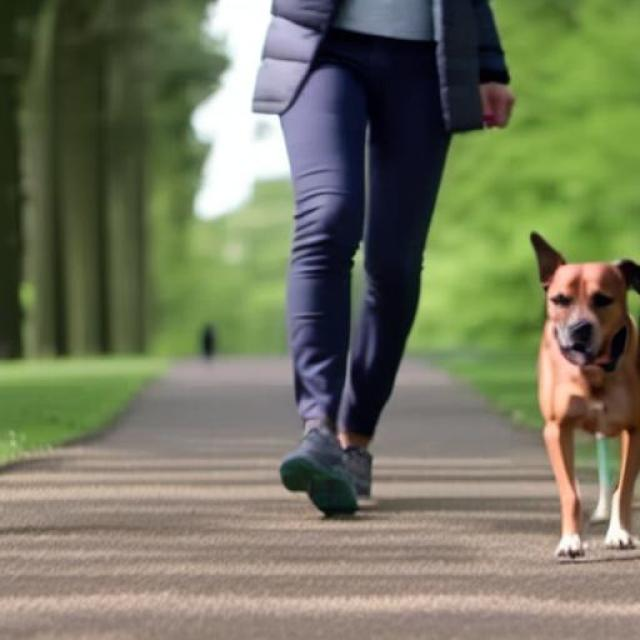Unleashed_Dog: (287, 24, 640, 559)
